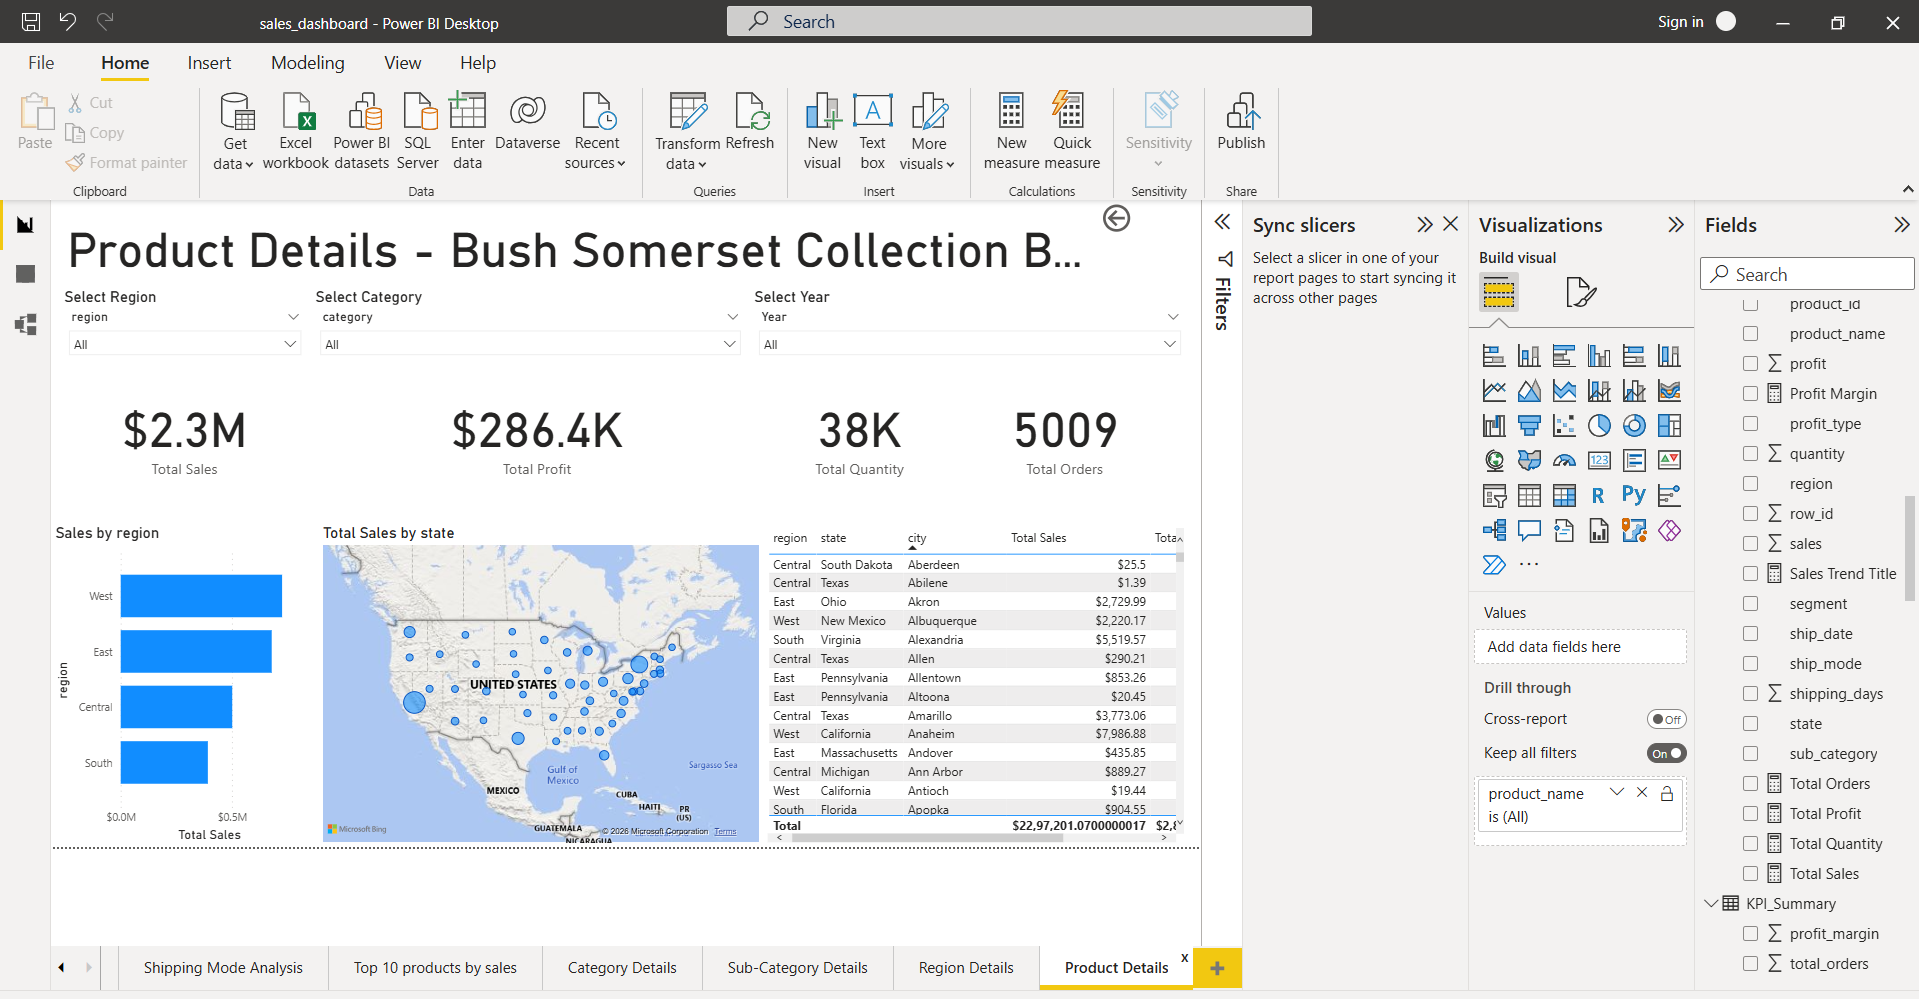

What the dashboard file says about the page in this screenshot:
{"tool":"powerbi","page":{"name":"Product Details","canvas":[1280,720],"ordinal":9},"visuals":[{"type":"card","fields":{"Values":["Fact_sales.Total Sales"]},"box":[0,206,297.9,108.9],"z":0},{"type":"card","fields":{"Values":["Fact_sales.Total Profit"]},"box":[289.4,206,503.8,108.9],"z":1000},{"type":"card","fields":{"Values":["Fact_sales.Total Quantity"]},"box":[777.9,206,245.1,108.9],"z":2000},{"type":"card","fields":{"Values":["Fact_sales.Total Orders"]},"box":[990.6,206,275.7,108.9],"z":3000},{"type":"barChart","title":"Sales by region","fields":{"Category":["Fact_sales.region"],"Y":["Fact_sales.Total Sales"]},"box":[0,360.9,297.9,359.1],"z":4000},{"type":"map","fields":{"Category":["Fact_sales.state"],"Size":["Fact_sales.Total Sales"]},"box":[297.9,360.9,495.3,359.1],"z":5000},{"type":"tableEx","fields":{"Values":["Fact_sales.region","Fact_sales.state","Fact_sales.city","Fact_sales.Total Sales","Fact_sales.Total Profit","Fact_sales.Total Quantity"]},"box":[793.2,360.9,473.2,359.1],"z":6000},{"type":"actionButton","box":[1166.2,0,100.2,40.3],"z":7000},{"type":"card","fields":{"Values":["Category_Performance.Product Title"]},"box":[0,0,1166,97],"z":8000},{"type":"slicer","title":"Select Category","fields":{"Values":["Fact_sales.category"]},"box":[289.4,97,488.5,108.9],"z":8001},{"type":"slicer","title":"Select Region","fields":{"Values":["Fact_sales.region"]},"box":[10.2,97,279.1,108.9],"z":8002},{"type":"slicer","title":"Select Year","fields":{"Values":["Date_Dim.Year"]},"box":[777.9,97,490.2,108.9],"z":8003}]}

Visuals, with their boxes on the page's 1280x720 design canvas (x1, y1, x2, y2). These are canvas units, not pixel positions in the 1919x999 screenshot, which may show the page scaled, cropped or inside an application window:
card - Fact_sales.Total Sales: [left=0, top=206, right=298, bottom=315]
card - Fact_sales.Total Profit: [left=289, top=206, right=793, bottom=315]
card - Fact_sales.Total Quantity: [left=778, top=206, right=1023, bottom=315]
card - Fact_sales.Total Orders: [left=991, top=206, right=1266, bottom=315]
"Sales by region" barChart: [left=0, top=361, right=298, bottom=720]
map - Fact_sales.state x Fact_sales.Total Sales: [left=298, top=361, right=793, bottom=720]
tableEx - Fact_sales.region x Fact_sales.state: [left=793, top=361, right=1266, bottom=720]
actionButton: [left=1166, top=0, right=1266, bottom=40]
card - Category_Performance.Product Title: [left=0, top=0, right=1166, bottom=97]
"Select Category" slicer: [left=289, top=97, right=778, bottom=206]
"Select Region" slicer: [left=10, top=97, right=289, bottom=206]
"Select Year" slicer: [left=778, top=97, right=1268, bottom=206]
